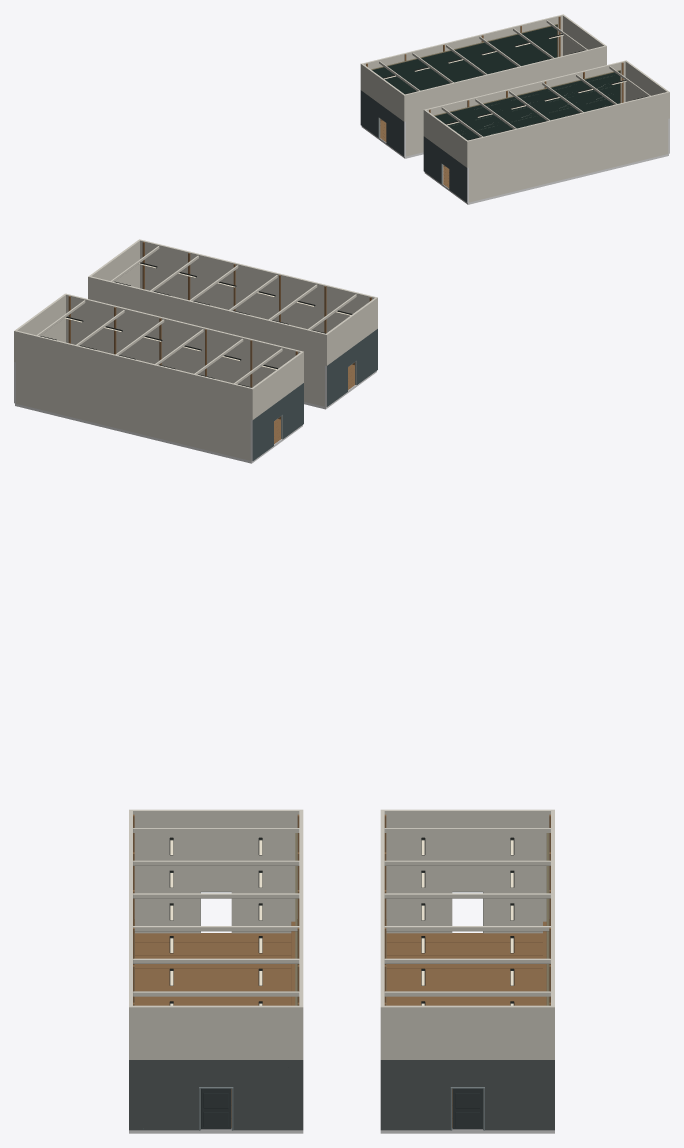
The model's file is R5_MAP_Basic.fbx.
3 renders of one model, top to bottom at view 1: azimuth 30°, elevation 25°; view 2: azimuth 150°, elevation 25°; view 3: azimuth 270°, elevation 25°, orthographic. The views are drawn at different scales.
Parts seen in each view (by area): view 1: South wall.004, A R5 upper long wall, A monumental chalkboard, B monumental chalkboard, B R5 upper long wall, A R5 upper long wall.001, B R5 upper long wall.001, B R5 upper end wall, A R5 upper end wall, A R5 upper end wall.001, B R5 upper end wall.001, East wall south.010 (+5 smaller); view 2: North wall.011, B R5 upper long wall.001, B R5 upper long wall, A R5 upper long wall, A R5 upper long wall.001, South wall.004, South wall.011, B R5 upper end wall, A R5 upper end wall, B R5 upper end wall.001, A R5 upper end wall.001, East wall north.010 (+5 smaller); view 3: A R5 upper end wall.001, B R5 upper end wall.001, A R5 upper end wall, B R5 upper end wall, East wall north.004, East wall south.011, East wall north.011, East wall south.004, East wall south.010, East wall south.003, East wall north.003, East wall north.010 (+18 smaller).
Part boxes in pixels (<box>): South wall.004: <box>469,119,668,202</box>; A R5 upper long wall: <box>468,92,668,167</box>; A monumental chalkboard: <box>435,71,619,139</box>; B monumental chalkboard: <box>372,25,556,93</box>; B R5 upper long wall: <box>405,46,605,121</box>; A R5 upper long wall.001: <box>425,60,625,115</box>; B R5 upper long wall.001: <box>363,14,562,69</box>; B R5 upper end wall: <box>360,63,405,121</box>; A R5 upper end wall: <box>423,109,468,167</box>; A R5 upper end wall.001: <box>625,60,669,118</box>; B R5 upper end wall.001: <box>562,14,606,65</box>; East wall south.010: <box>386,109,405,156</box>; North wall.011: <box>16,362,250,460</box>; B R5 upper long wall.001: <box>16,330,251,419</box>; B R5 upper long wall: <box>66,294,301,374</box>; A R5 upper long wall: <box>140,239,375,320</box>; A R5 upper long wall.001: <box>90,276,325,365</box>; South wall.004: <box>140,271,342,332</box>; South wall.011: <box>66,326,268,387</box>; B R5 upper end wall: <box>250,351,303,419</box>; A R5 upper end wall: <box>325,297,377,365</box>; B R5 upper end wall.001: <box>14,293,66,362</box>; A R5 upper end wall.001: <box>88,239,140,299</box>; East wall north.010: <box>250,405,273,461</box>; A R5 upper end wall.001: <box>129,1005,303,1059</box>; B R5 upper end wall.001: <box>380,1005,554,1059</box>; A R5 upper end wall: <box>129,809,303,860</box>; B R5 upper end wall: <box>380,809,554,860</box>; East wall north.004: <box>231,1060,303,1130</box>; East wall south.011: <box>380,1060,452,1130</box>; East wall north.011: <box>483,1060,554,1130</box>; East wall south.004: <box>129,1060,200,1130</box>; East wall south.010: <box>386,866,452,933</box>; East wall south.003: <box>134,866,200,933</box>; East wall north.003: <box>231,866,297,933</box>; East wall north.010: <box>483,866,549,933</box>.
Size of the model in its own units: 6644 by 724 by 2200.
